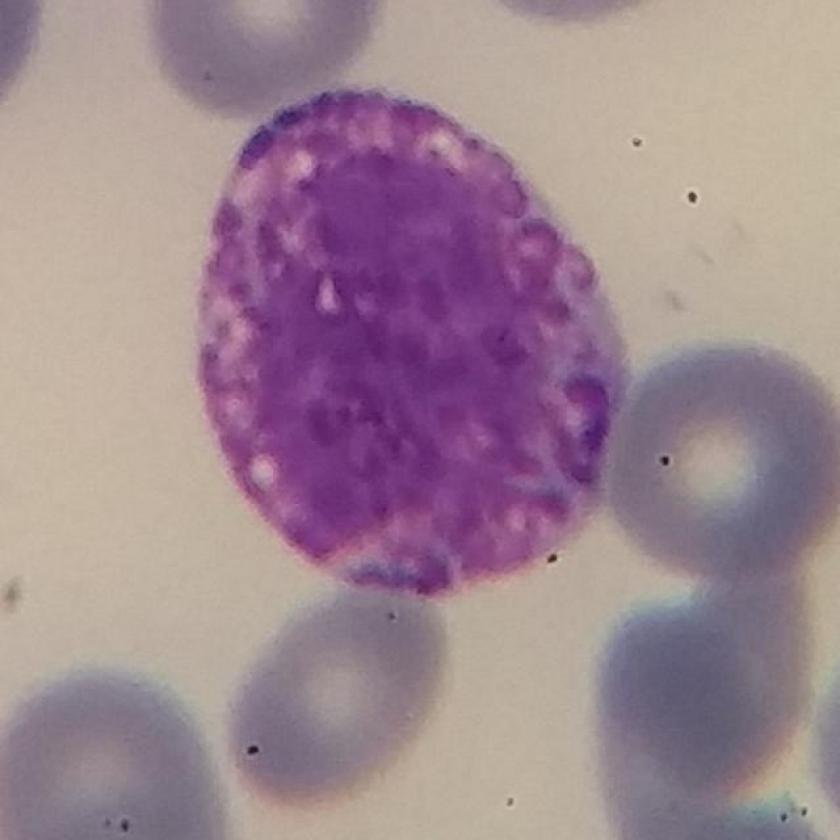basophil: (193, 85, 630, 605)
